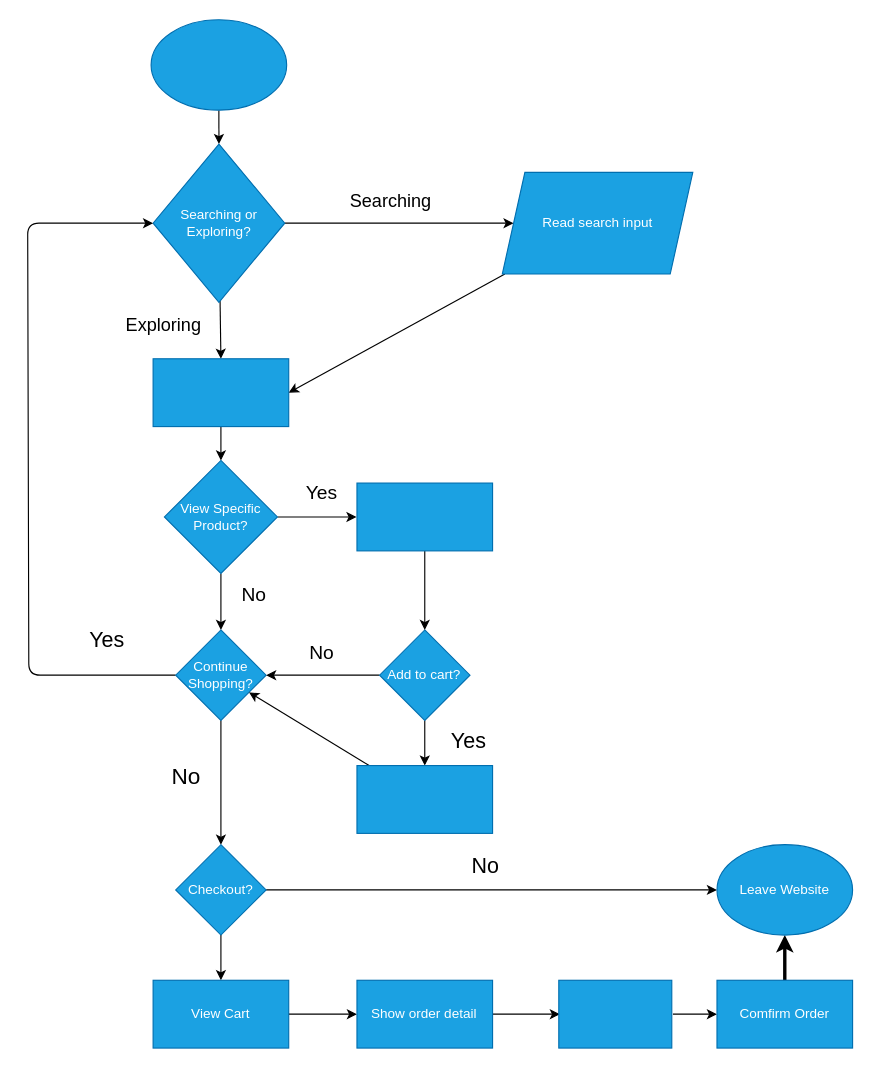
This 872x1068 diagram has some shape labels left out. Each missing label, with the centre of its shape:
Browsing product: pixel 220 392
Choose Payment method: pixel 615 1013
Enter the Website: pixel 218 64
Notification of add to cart: pixel 424 798
Open product's Webpage: pixel 424 516
